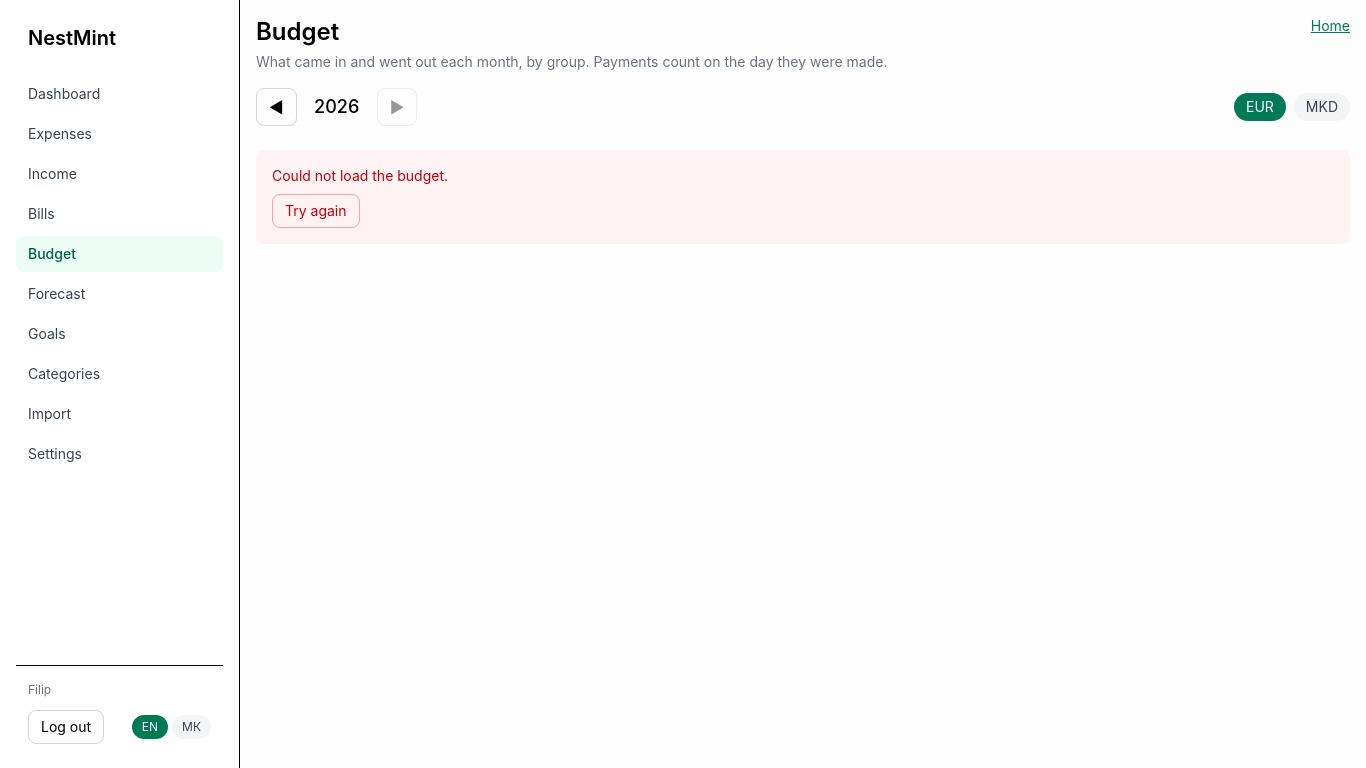
the budget grid page › says so when the budget cannot be loaded, and a retry brings it
Check: the message shows "Could not load the budget", box [272,167,448,184]
Click the button "Try again": {"x": 316, "y": 211} [272,194,360,228]
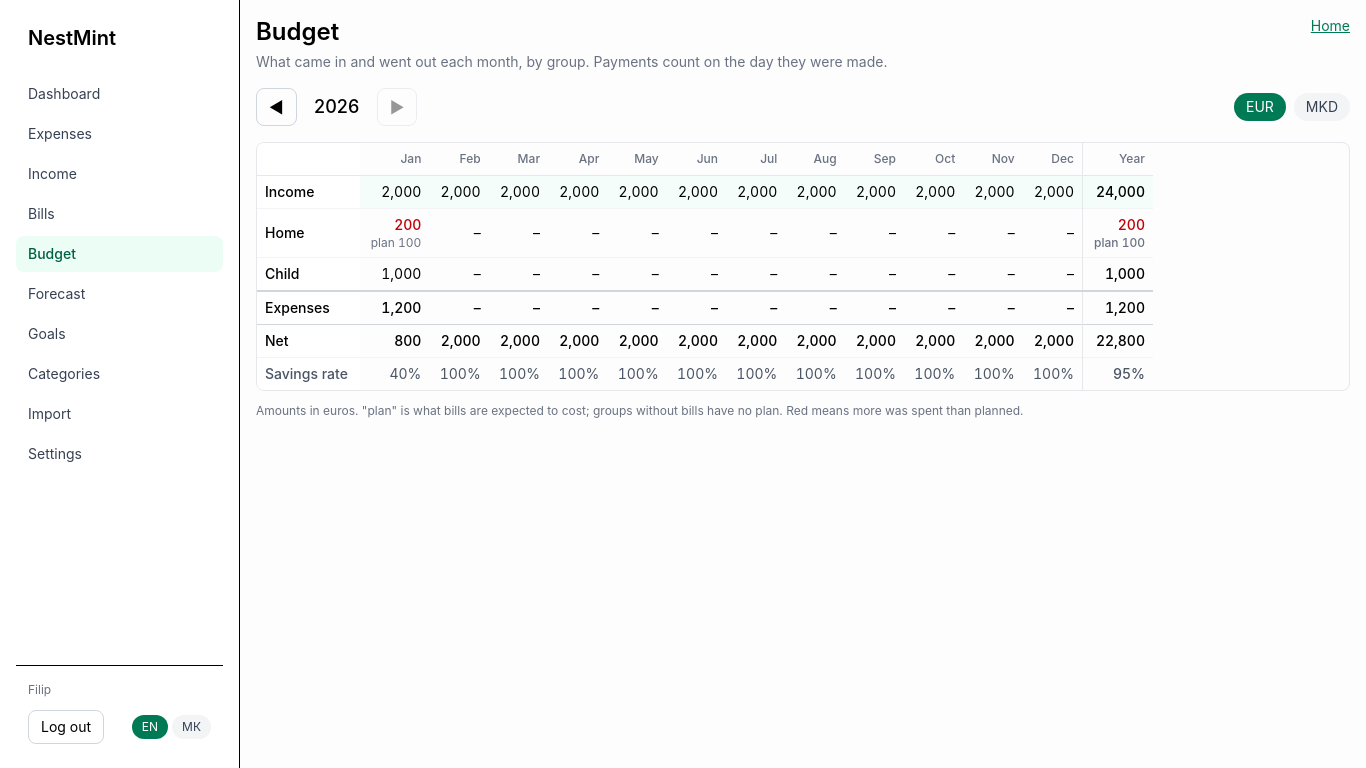
Check: the table named "Budget 2026" is shown, box [257,143,1153,390]
